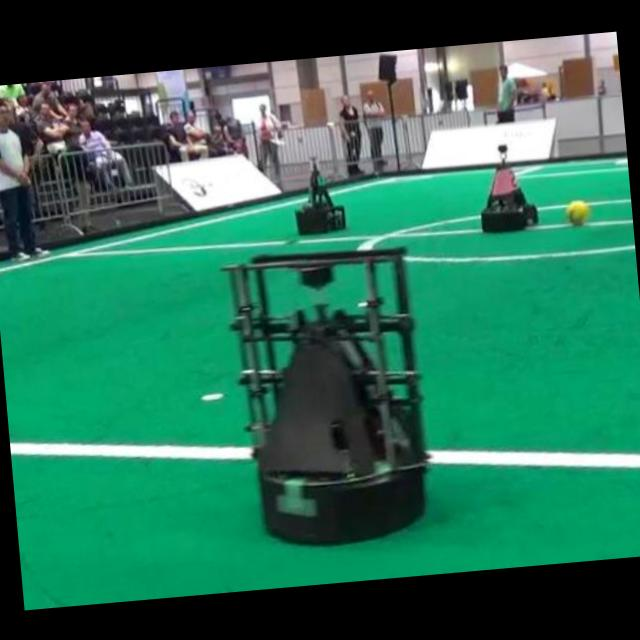ball: (565, 199, 590, 225)
robot: (224, 248, 427, 542), (295, 157, 346, 233), (480, 164, 537, 230)
